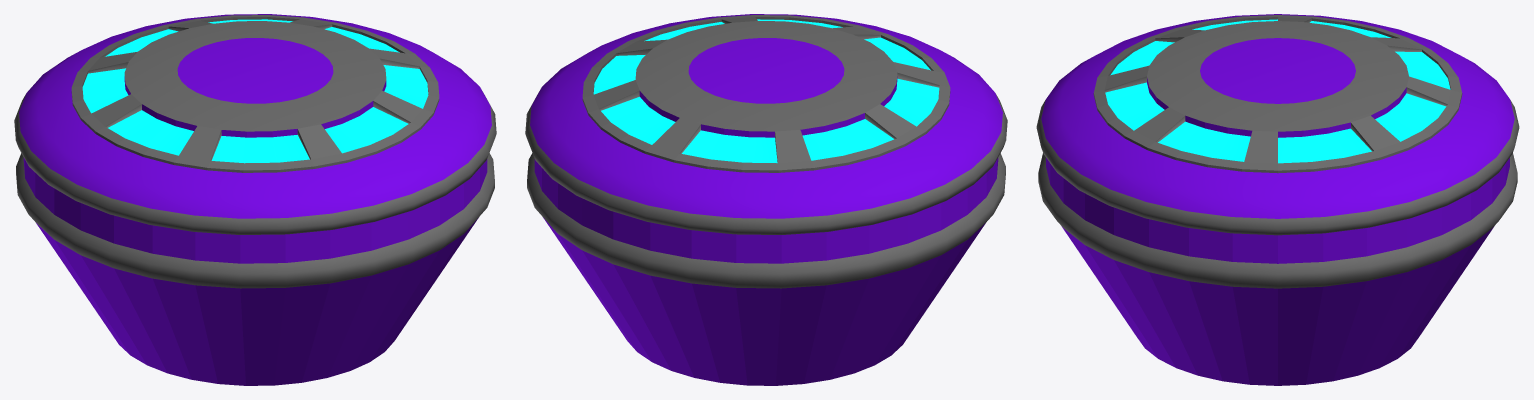
File: Bumper2.fbx
The picture shows the model from 3 angles, left to right: view 1: azimuth 30°, elevation 25°; view 2: azimuth 150°, elevation 25°; view 3: azimuth 270°, elevation 25°; orthographic projection.
Visible parts, largest first — view 1: Circle; view 2: Circle; view 3: Circle.
Boxes of the visible parts, x1=… form: Circle: x1=14, y1=14, x2=496, y2=385; Circle: x1=525, y1=14, x2=1007, y2=385; Circle: x1=1036, y1=14, x2=1519, y2=385.
Bounding box in the file's own units: 208 × 121 × 208.
